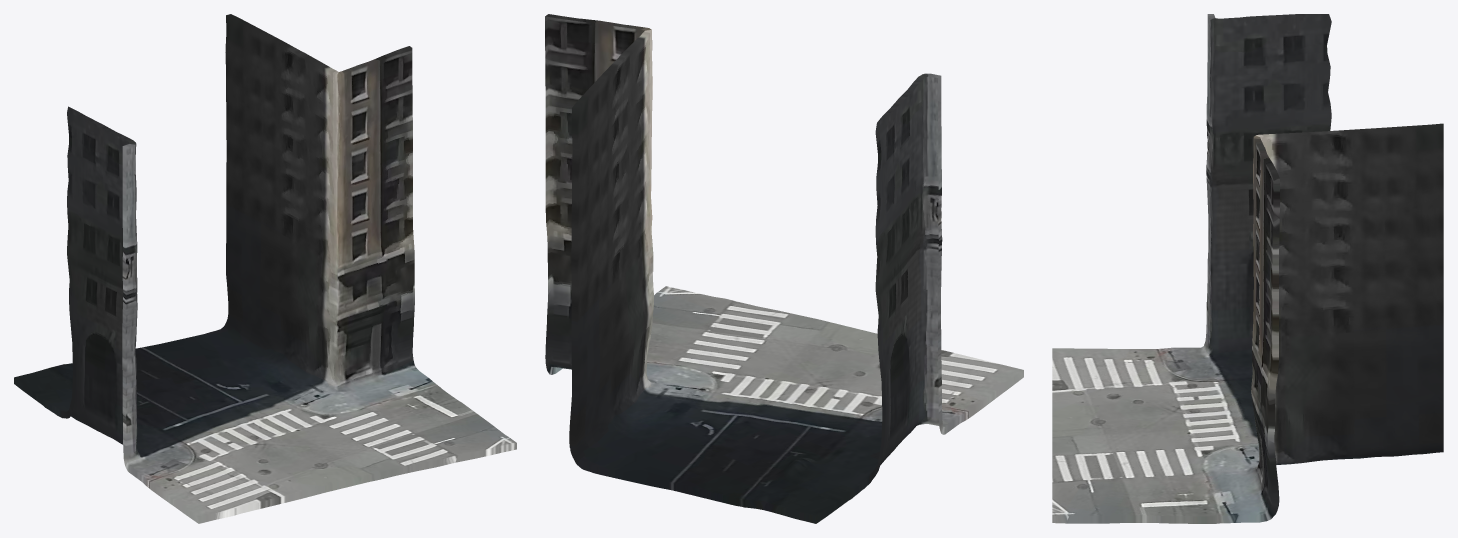
Rendered from z20-167769-405236-h0-yup-uvflip-v3-world.glb.
3 renders of one model, left to right at view 1: azimuth 30°, elevation 25°; view 2: azimuth 150°, elevation 25°; view 3: azimuth 270°, elevation 25°, orthographic. The views are drawn at different scales.
Size of the model in its own units: 30.16 by 29.52 by 30.32.
Materials: 1 (1 with a texture image).
